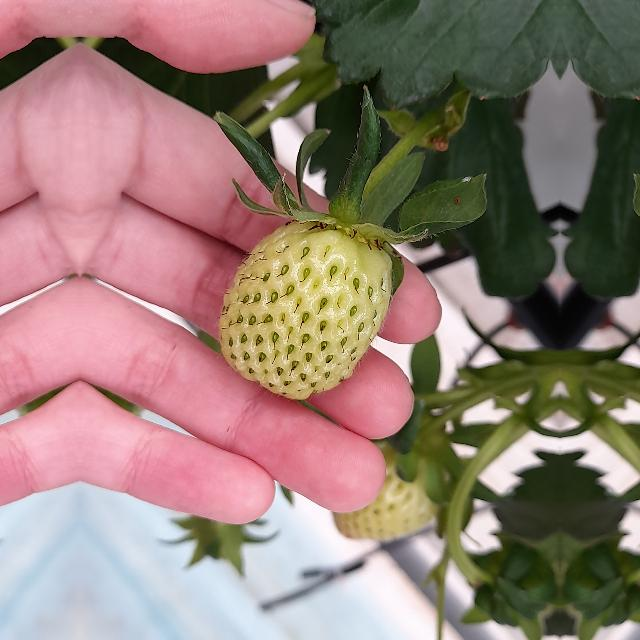Health_25: (218, 219, 392, 399)
